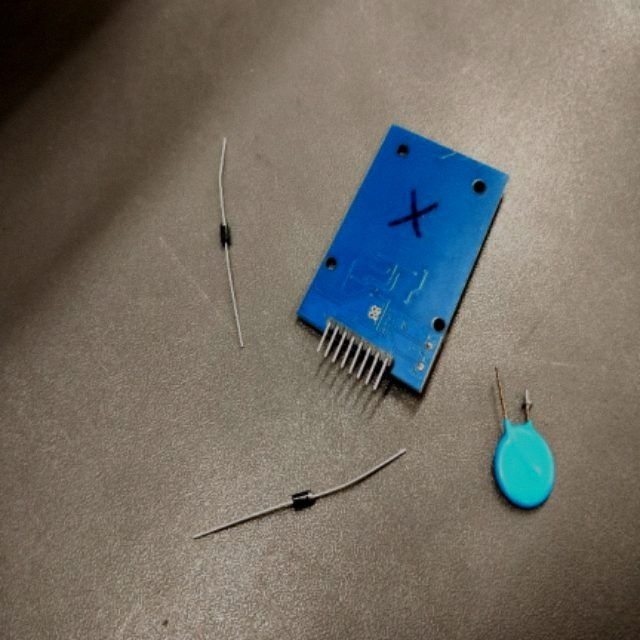capacitor: (493, 423, 554, 507)
